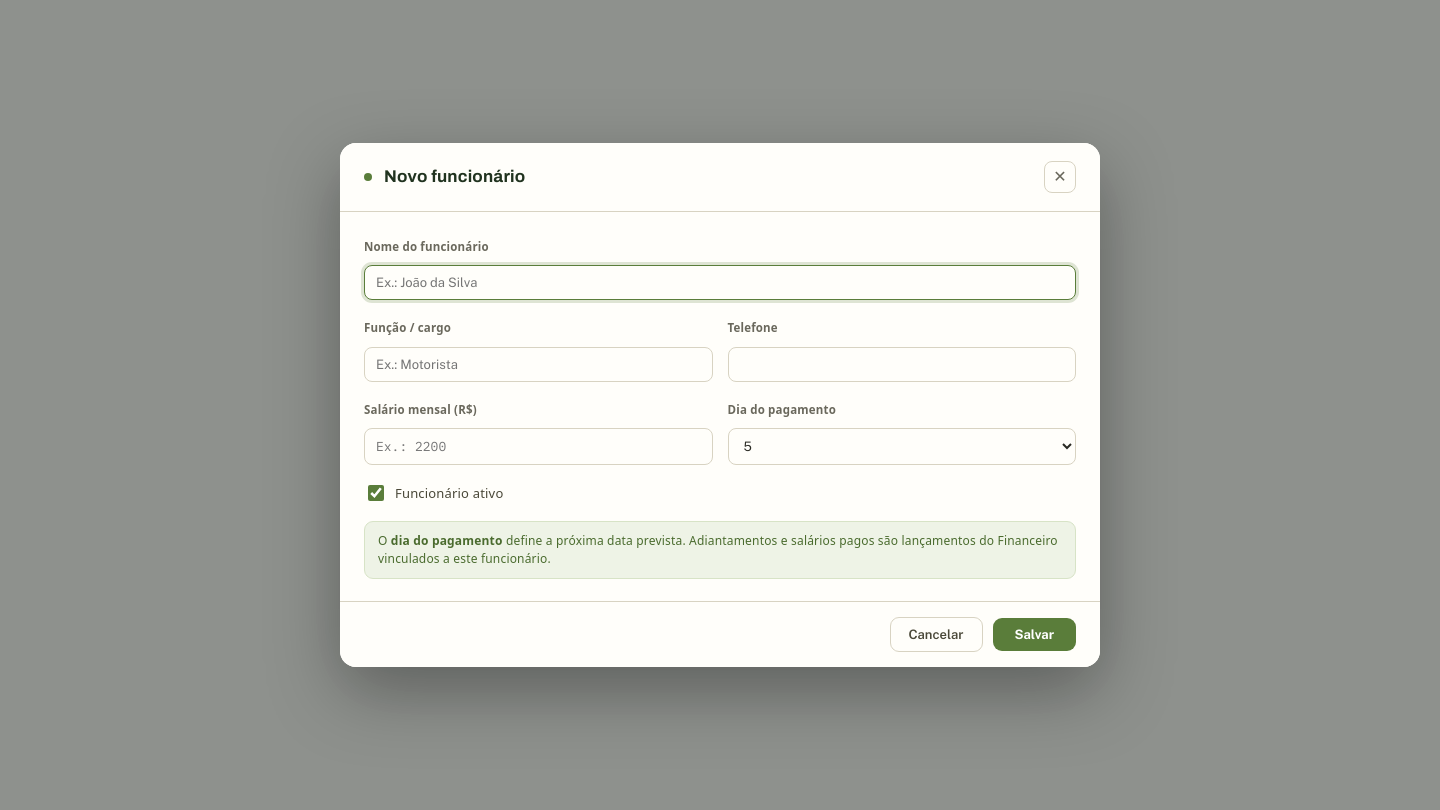
Scenario: ModalFuncionario — erros ao salvar › erro generico mostra mensagem generica
The image size is (1440, 810).
Type "X" into the field labelled "Nome do funcionário" at (720, 283), box [364,265,1076,300]
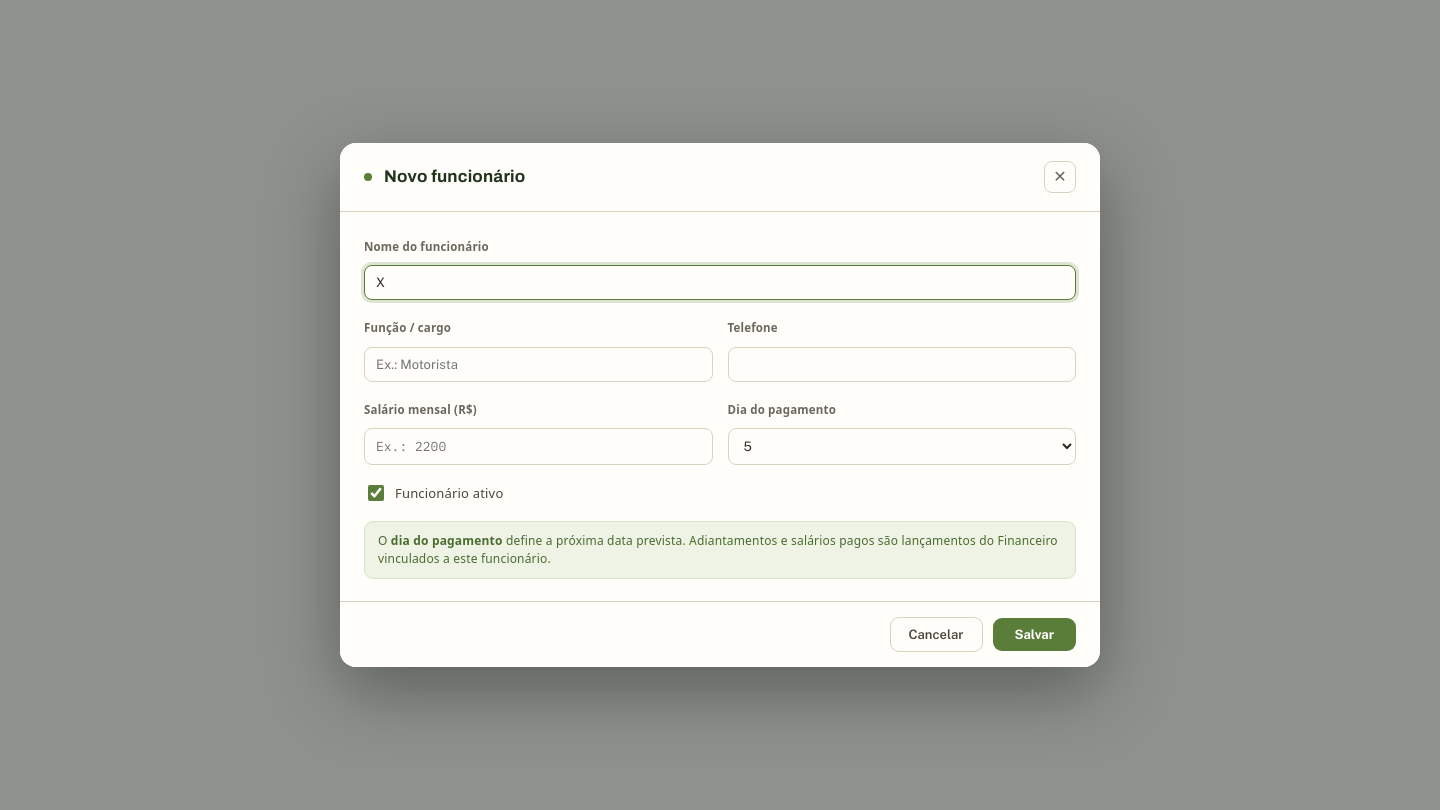
Click the button "Salvar" at (1034, 634), box [992,618,1076,651]
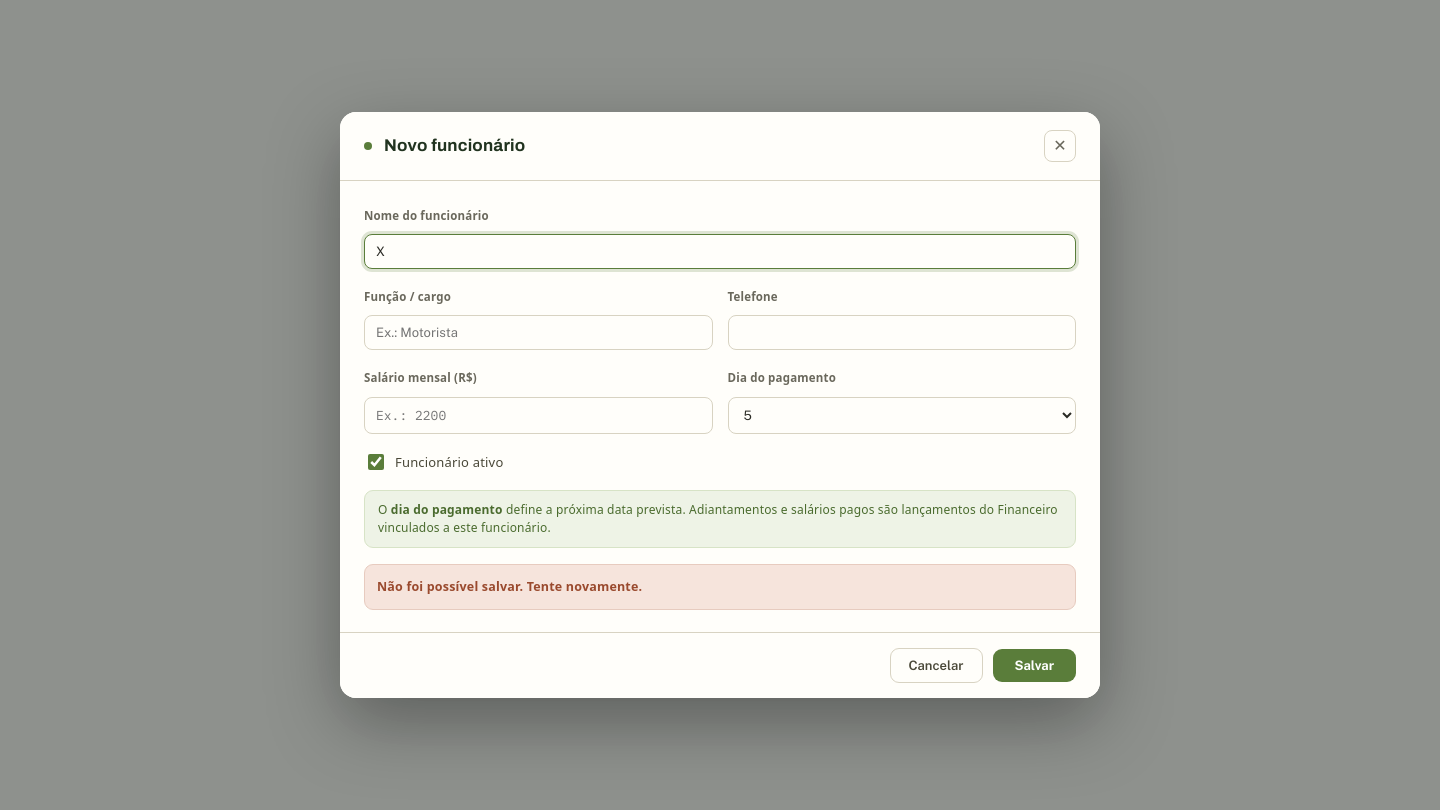
Check: the message reads "Não foi possível salvar. Tente novamente.", box [377,578,642,595]
